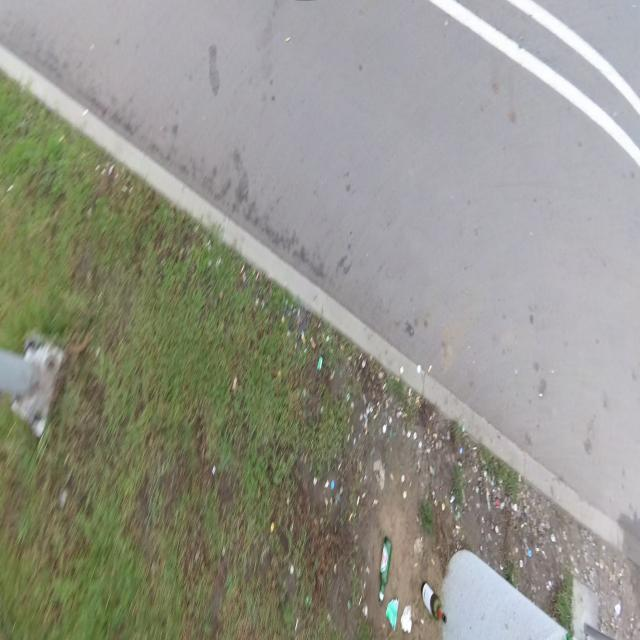rubbish: (420, 582, 448, 625), (378, 535, 393, 601), (386, 597, 399, 631), (400, 605, 413, 633)
